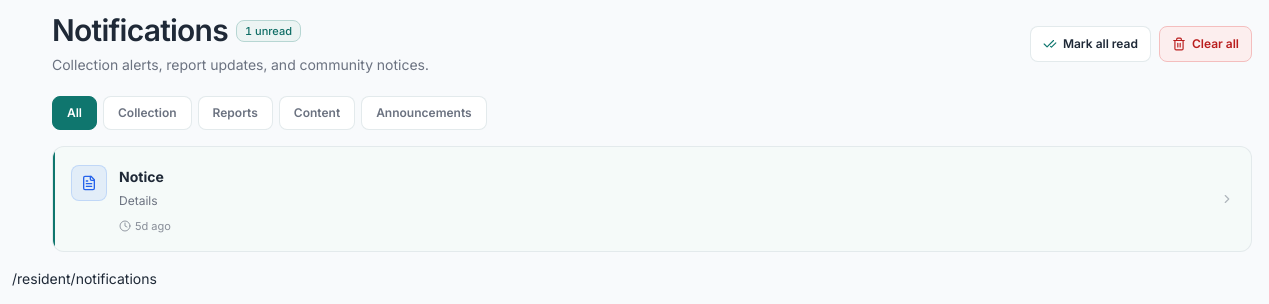
Scenario: opens REPORT_UPDATE destination without waiting for its read receipt
Click the button with class "resident-notification-row". click: (89, 183)
box: x1=53 y1=147 x2=1251 y2=251
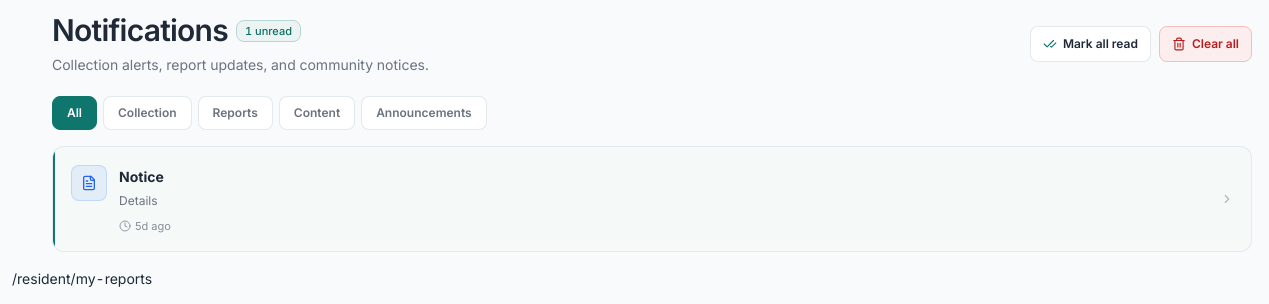
expect the text with test id "location" reads "/resident/my-reports": met, box x1=12 y1=270 x2=152 y2=286
